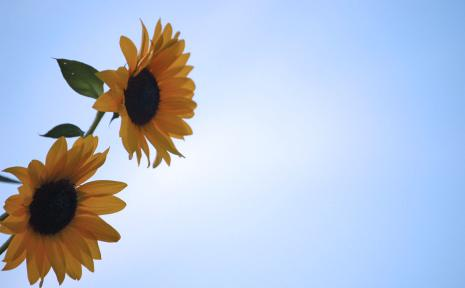sunflower: (2, 136, 127, 285), (94, 18, 198, 169)
